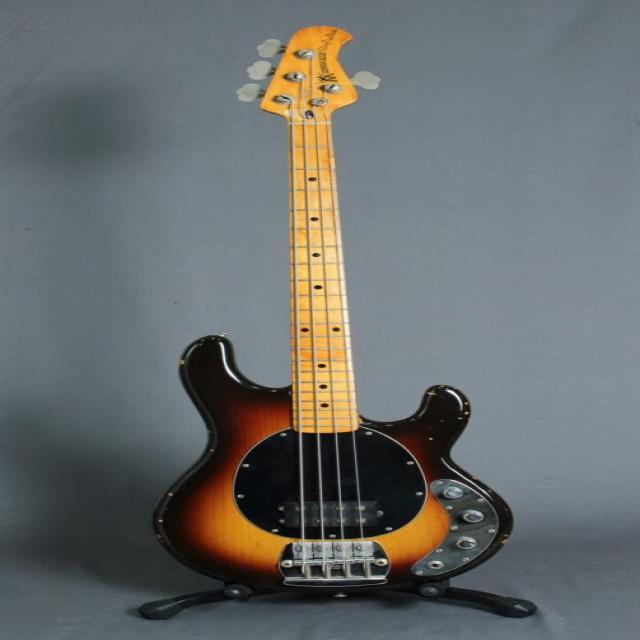bass: (154, 26, 511, 591)
